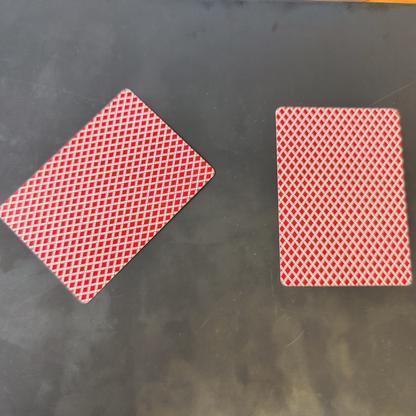card: (1, 81, 222, 314), (267, 99, 416, 294)
